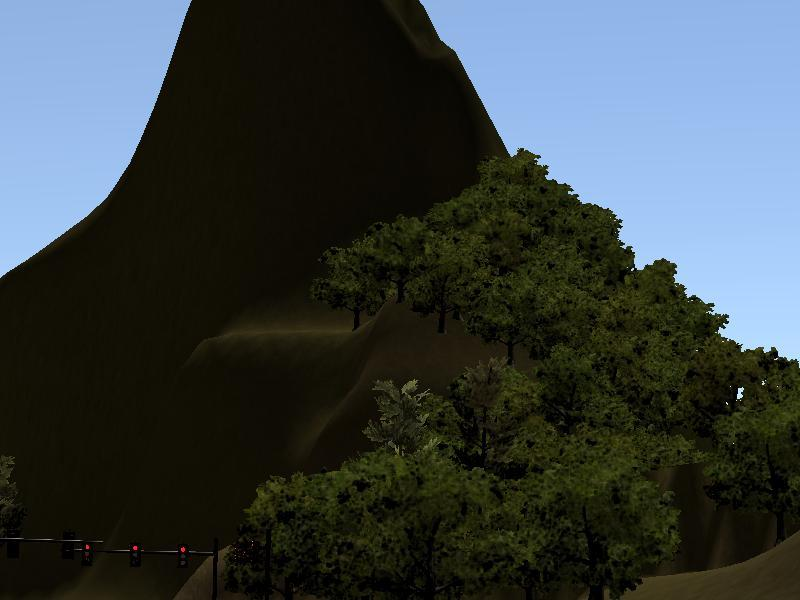Red: (129, 542, 140, 564), (178, 544, 187, 570), (81, 542, 89, 563)
